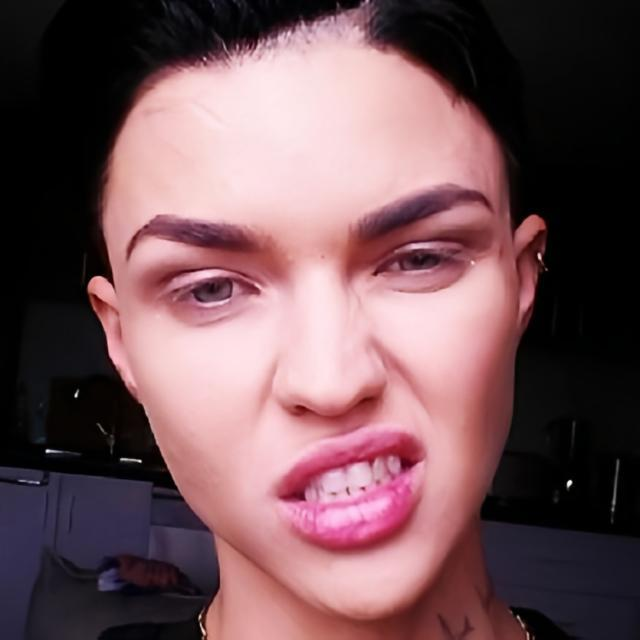disgust: (101, 0, 523, 628)
